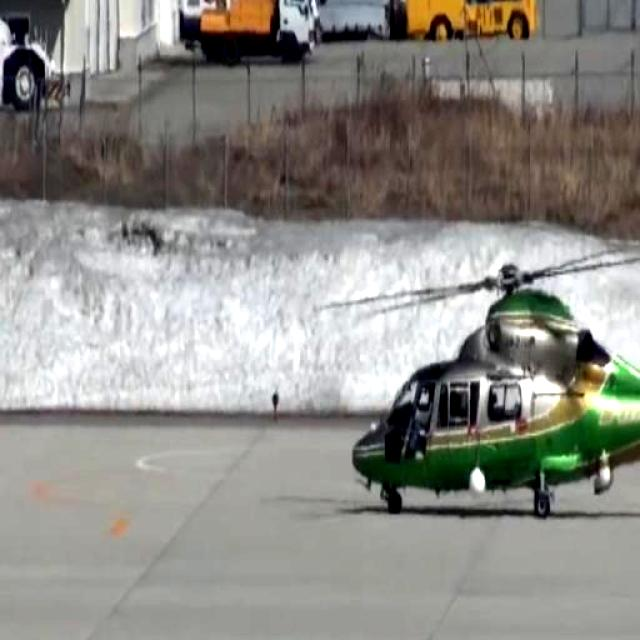drone: (348, 232, 640, 530)
